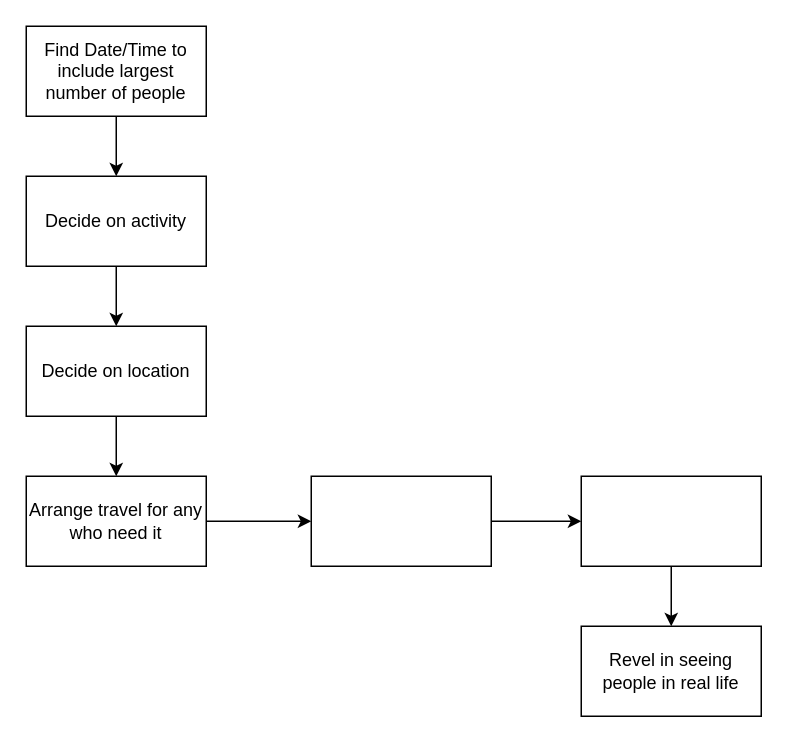
Image size: 788x743. Some labels were removed from this diagram. Each missing label, with the box of its shape:
Engage in activity: (580, 475, 761, 566)
Go to location: (310, 475, 491, 566)
